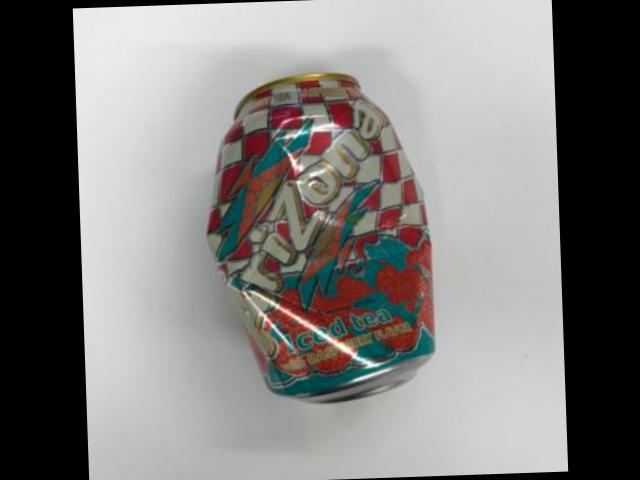metal: (209, 72, 435, 401)
